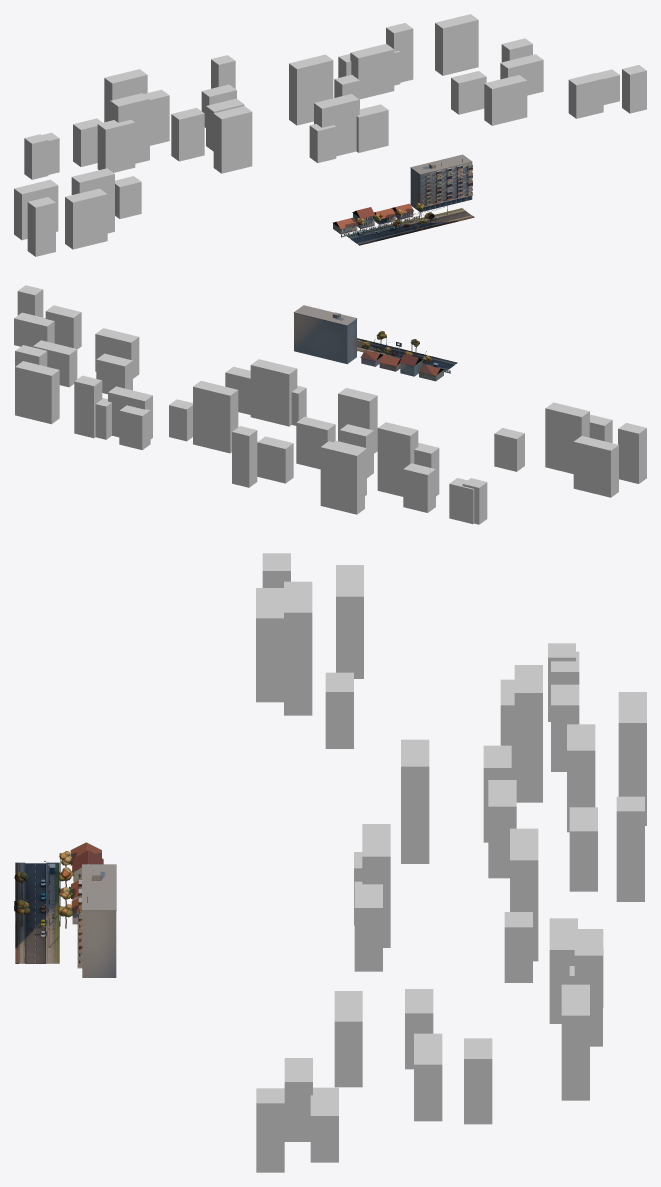
Rendered from view.glb.
3 views of the same model, one above another, from view 1: azimuth 30°, elevation 25°; view 2: azimuth 150°, elevation 25°; view 3: azimuth 270°, elevation 25° (orthographic). The views are drawn at different scales.
Visible parts, largest first — view 1: Far, Across, Street; view 2: Far, Across, Street; view 3: Far, Across, Street.
Part boxes in pixels (left/top/right/bottom): Far: left=14, top=14, right=646, bottom=256; Across: left=332, top=154, right=473, bottom=237; Street: left=347, top=203, right=474, bottom=245; Far: left=14, top=285, right=646, bottom=524; Across: left=293, top=305, right=450, bottom=381; Street: left=357, top=336, right=457, bottom=370; Far: left=256, top=553, right=646, bottom=1172; Across: left=14, top=842, right=116, bottom=977; Street: left=15, top=861, right=59, bottom=963.
Bounding box in the file's own units: 445 × 43.05 × 224.
4 materials, 3 textured.
